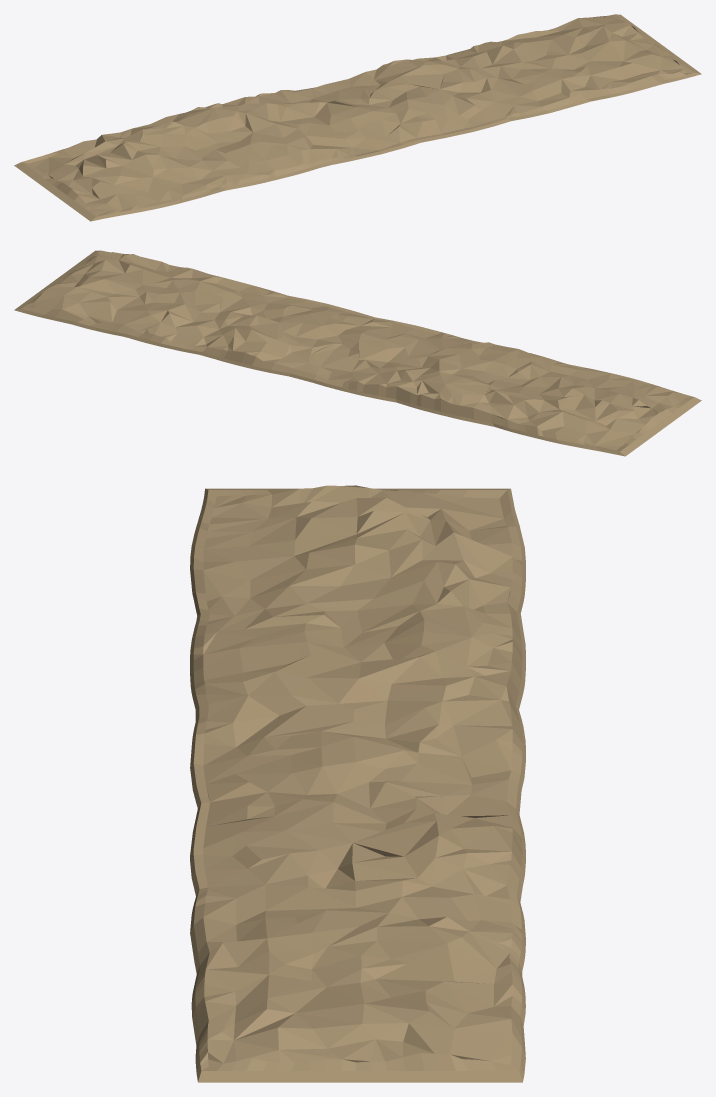
Rendered from Sand_Road.fbx.
3 renders of one model, top to bottom at view 1: azimuth 30°, elevation 25°; view 2: azimuth 150°, elevation 25°; view 3: azimuth 270°, elevation 25°, orthographic. The views are drawn at different scales.
Parts seen in each view (by area): view 1: pPlane1; view 2: pPlane1; view 3: pPlane1.
Part boxes in pixels (box(x1,y1,x2,y2)): pPlane1: box(14, 14, 701, 221); pPlane1: box(14, 250, 701, 456); pPlane1: box(190, 485, 525, 1082).
Size of the model in its own units: 52.9 by 1.68 by 12.64.
